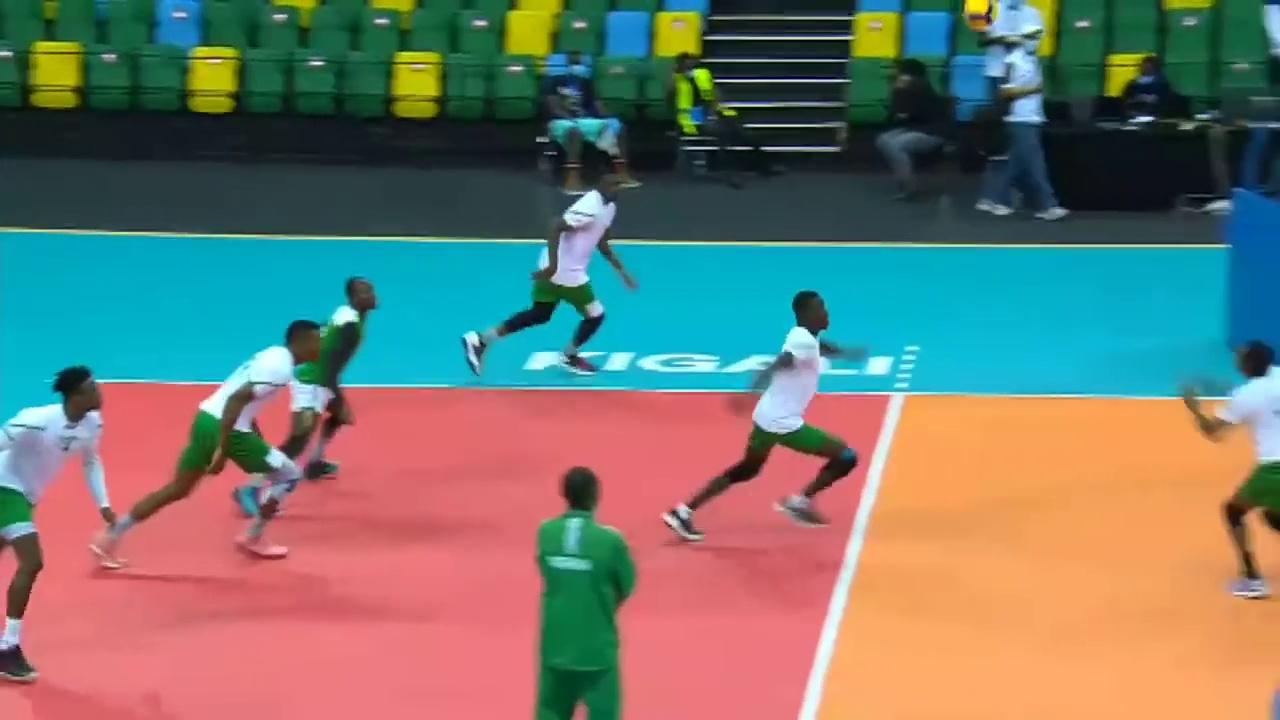player: (103, 319, 325, 566), (659, 289, 856, 539), (2, 361, 120, 686), (224, 267, 374, 516), (459, 168, 631, 382), (1187, 336, 1280, 606)
